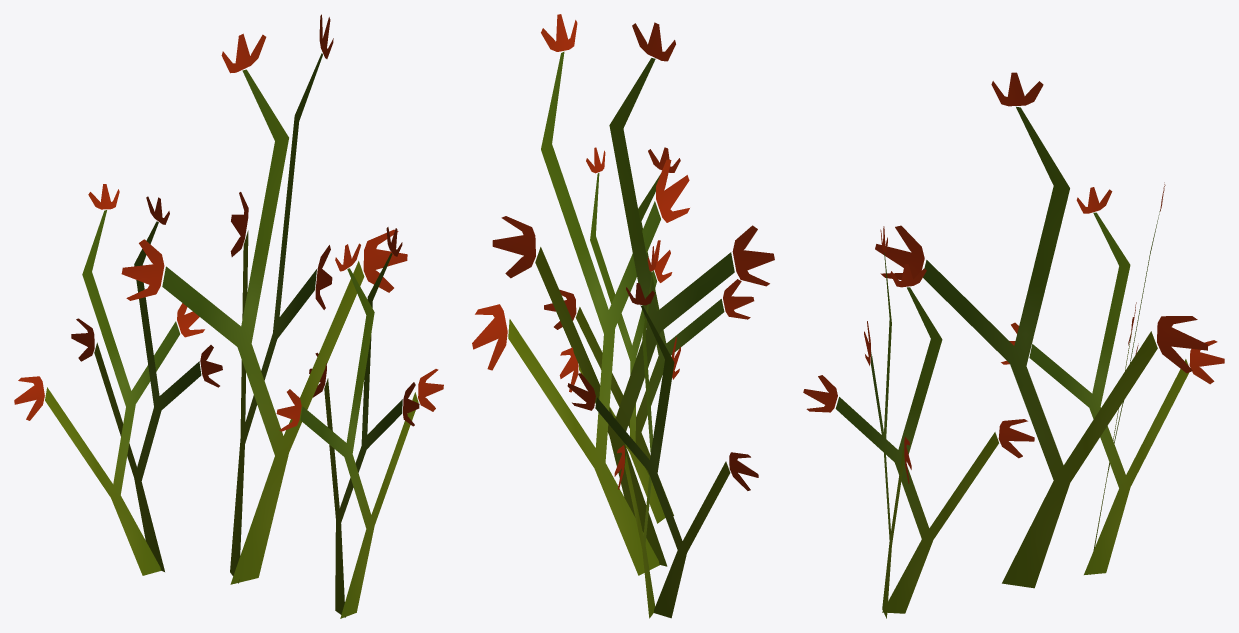
File: shrub1.glb
3 views of the same model, side by side, from view 1: azimuth 30°, elevation 25°; view 2: azimuth 150°, elevation 25°; view 3: azimuth 270°, elevation 25° (orthographic). The views are drawn at different scales.
Visible parts, largest first — view 1: Shrub; view 2: Shrub; view 3: Shrub.
Part boxes in pixels (x1,y1,x2,y2): Shrub: (14,14,443,618); Shrub: (472,14,774,618); Shrub: (803,72,1224,618).
Size of the model in its own units: 0.8815 by 1.42 by 0.9333.
Materials: 1 (1 with a texture image).
